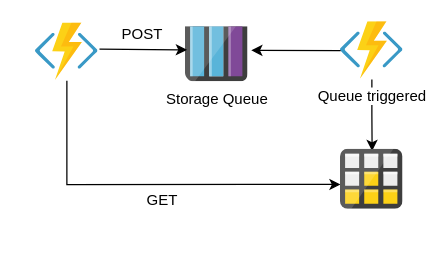
Image size: 448x256. Some labels were removed from this diagram. Each missing label, with the box of its shape:
Http triggered: (35, 22, 98, 80)
Table storage: (340, 149, 402, 209)
